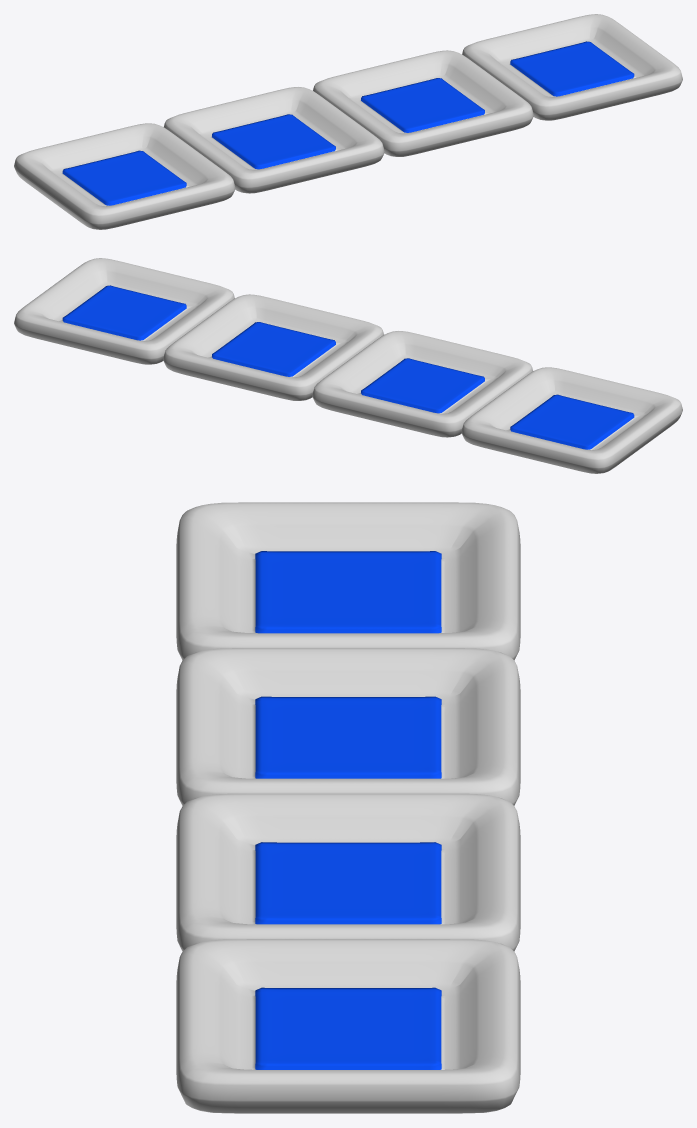
File: Boosters.fbx
The picture shows the model from 3 angles, top to bottom: view 1: azimuth 30°, elevation 25°; view 2: azimuth 150°, elevation 25°; view 3: azimuth 270°, elevation 25°; orthographic projection. The views are drawn at different scales.
Visible parts, largest first — view 1: Booster.003, Booster, Booster.001, Booster.002; view 2: Booster.003, Booster, Booster.001, Booster.002; view 3: Booster, Booster.001, Booster.003, Booster.002.
Boxes of the visible parts, x1,y1,x2,y2 form: Booster.003: (14,123,235,229); Booster: (462,14,682,120); Booster.001: (313,50,533,156); Booster.002: (164,87,384,193); Booster.003: (461,367,682,473); Booster: (14,258,234,364); Booster.001: (163,294,383,400); Booster.002: (312,331,532,437); Booster: (176,939,520,1113); Booster.001: (176,793,520,951); Booster.003: (176,502,520,660); Booster.002: (176,648,520,805).
Size of the model in its own units: 792 by 28.73 by 198.
